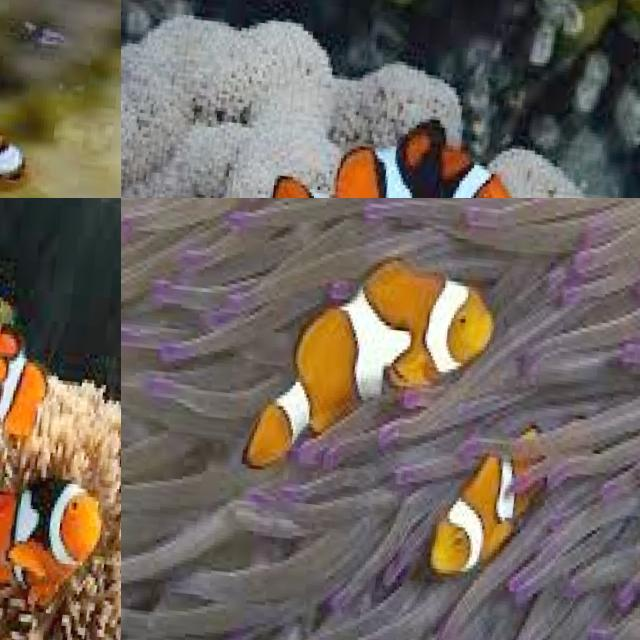Amphiprion-percula: (210, 211, 496, 499), (398, 386, 600, 596), (241, 68, 544, 198), (0, 0, 121, 198), (0, 455, 121, 616), (0, 297, 61, 453)
